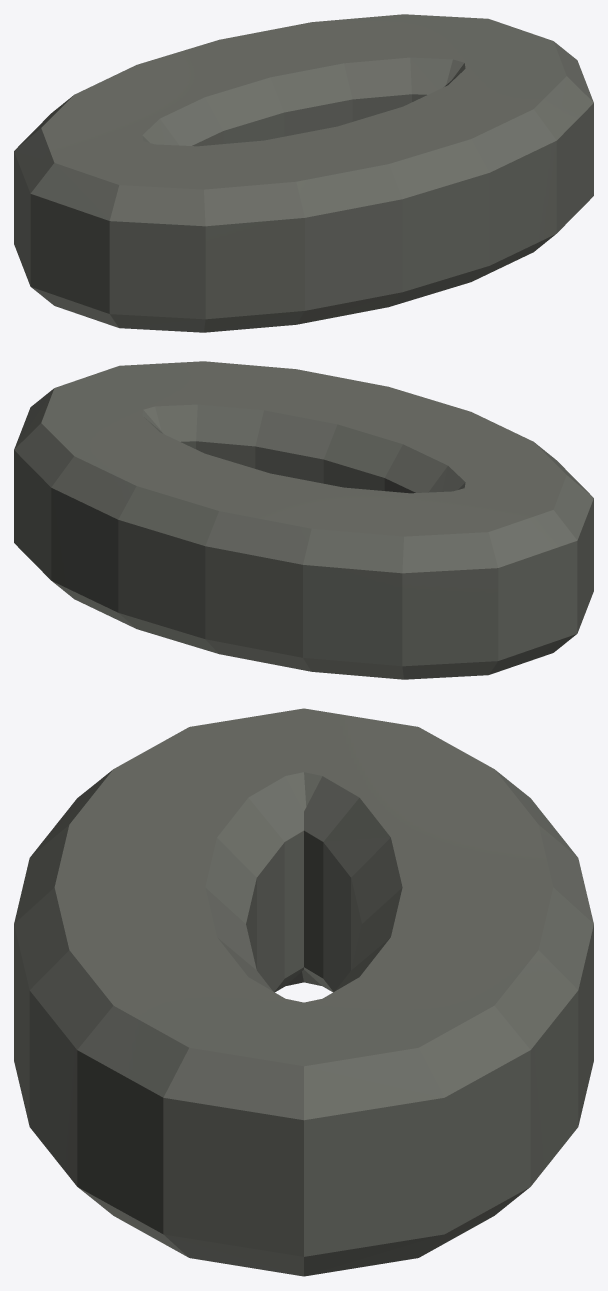
The model's file is WarrensC_CCS27_HeavyChainLink_Mars_SM.fbx.
The picture shows the model from 3 angles, top to bottom: view 1: azimuth 30°, elevation 25°; view 2: azimuth 150°, elevation 25°; view 3: azimuth 270°, elevation 25°; orthographic projection. The views are drawn at different scales.
Parts seen in each view (by area): view 1: WarrensC_CCS27_HeavyChainLink_Mars_SM.001; view 2: WarrensC_CCS27_HeavyChainLink_Mars_SM.001; view 3: WarrensC_CCS27_HeavyChainLink_Mars_SM.001.
Part boxes in pixels (<box>): WarrensC_CCS27_HeavyChainLink_Mars_SM.001: <box>14,14,593,332</box>; WarrensC_CCS27_HeavyChainLink_Mars_SM.001: <box>14,361,593,679</box>; WarrensC_CCS27_HeavyChainLink_Mars_SM.001: <box>14,708,593,1276</box>.
Size of the model in its own units: 32 by 20 by 8.
